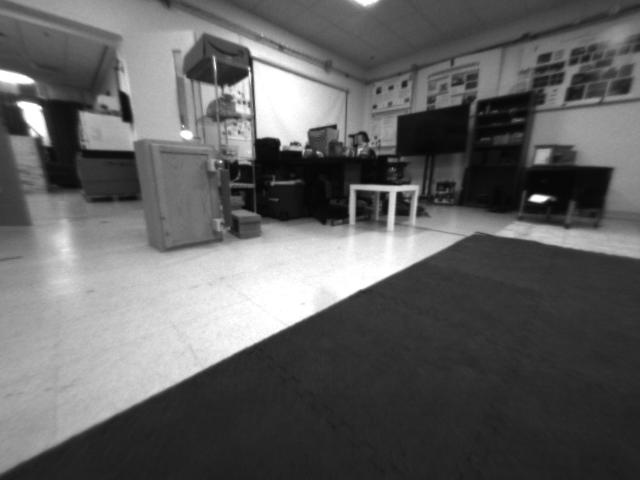coffee_pot: (375, 152, 404, 184)
